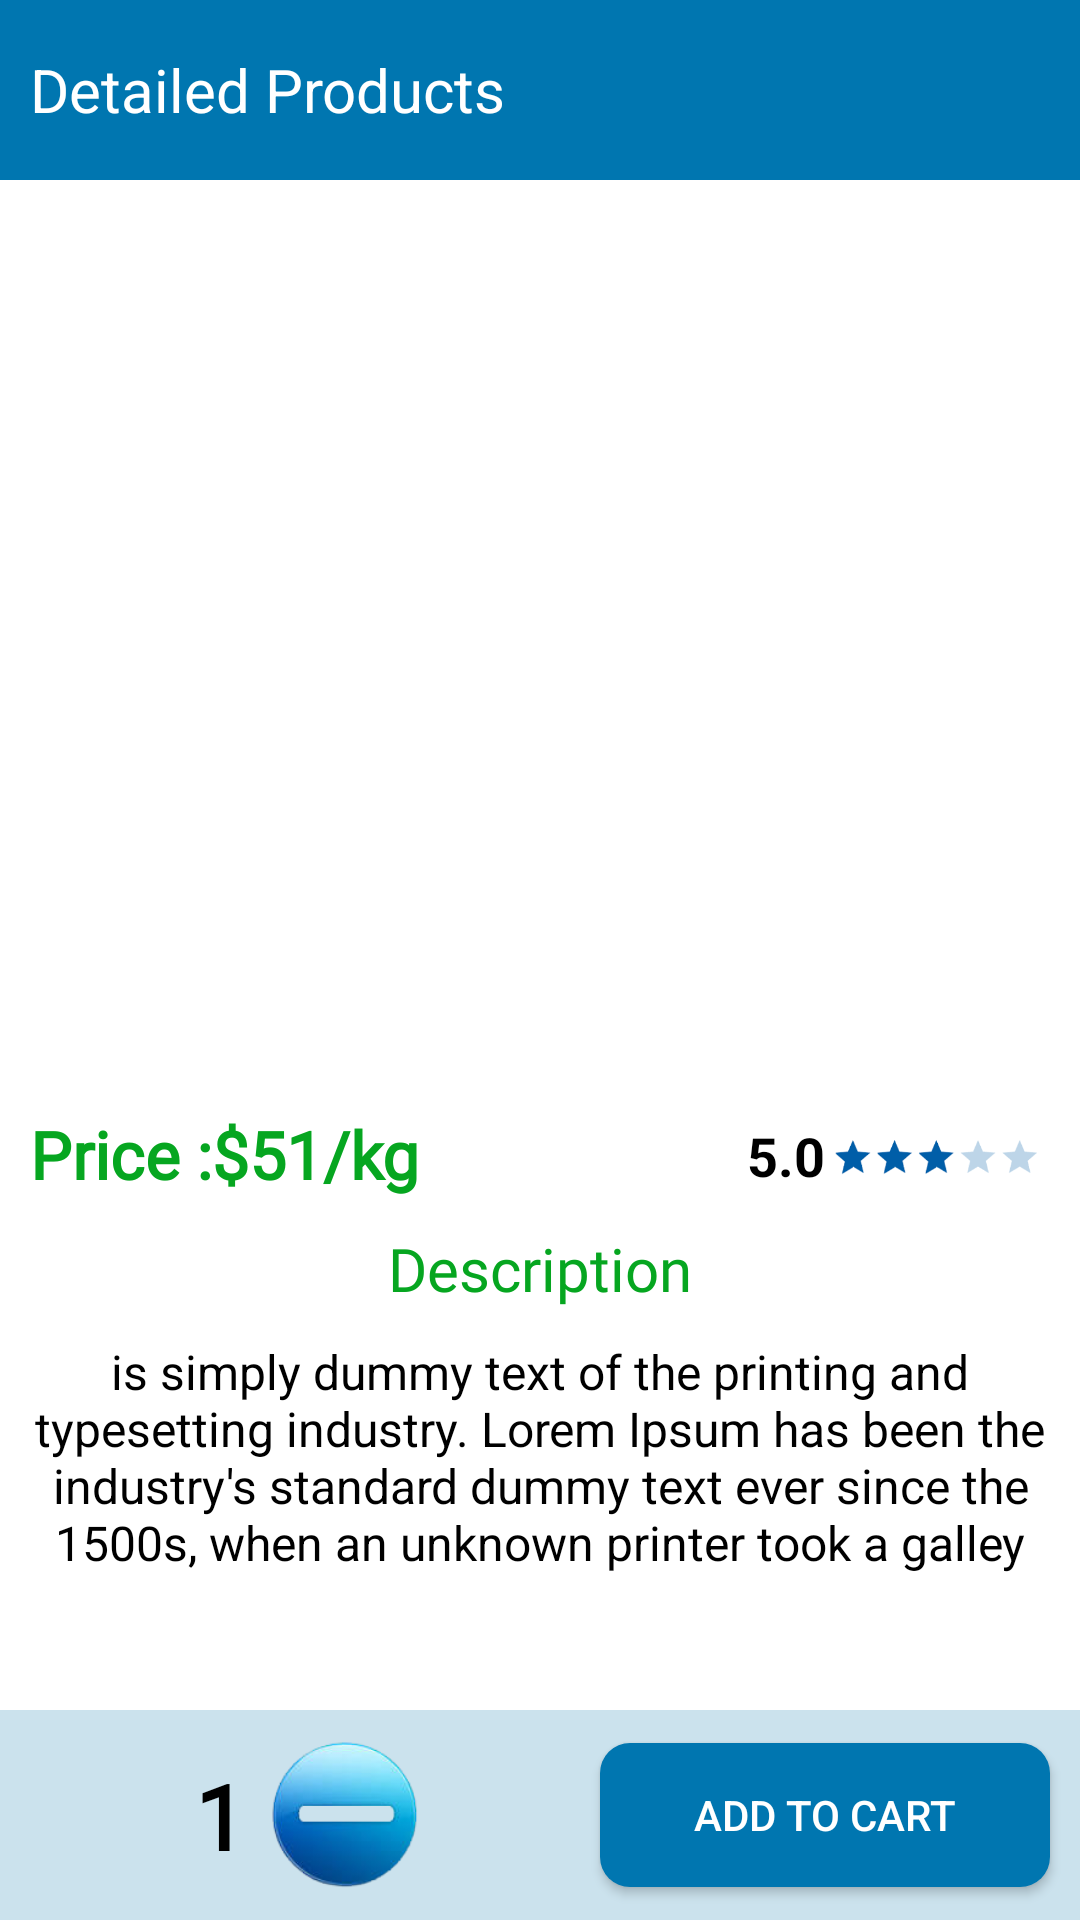

Screen size 1080x1920. Icon name, then its center in pixels as [x,y]:
minus: [344,1814]
ratingbar: [935,1157]
